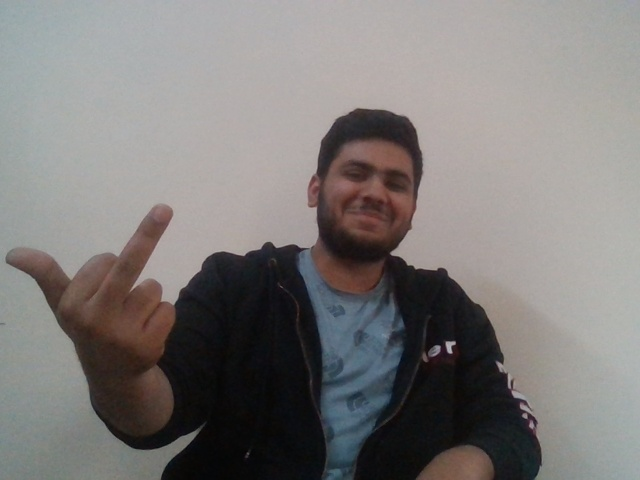Hello: (5, 195, 188, 374)
